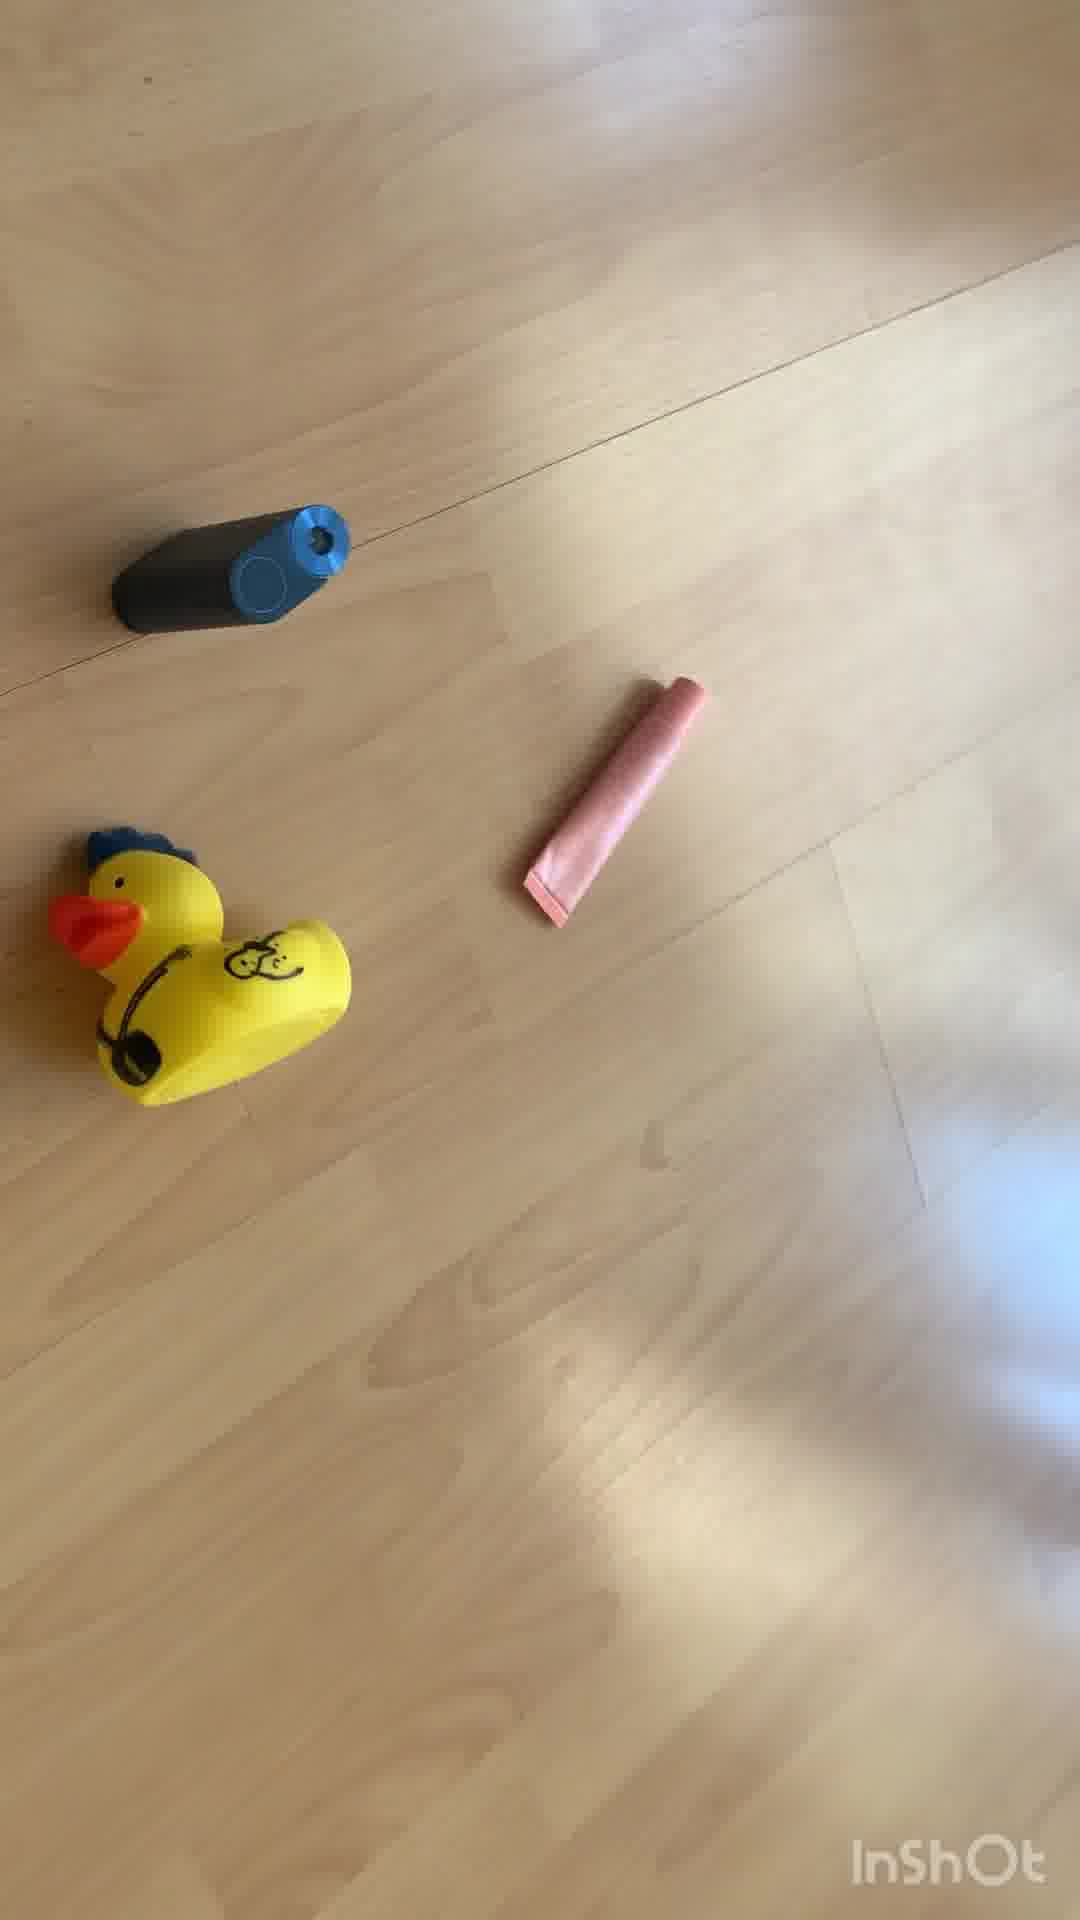duck: (51, 825, 359, 1108)
glo: (95, 508, 351, 634)
lip balm: (513, 675, 713, 939)
